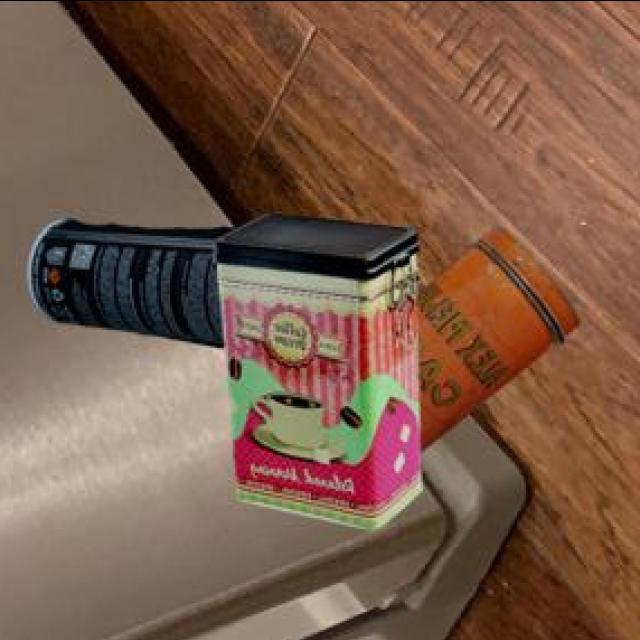logam: (209, 209, 420, 525), (413, 223, 576, 445), (23, 214, 232, 343)
